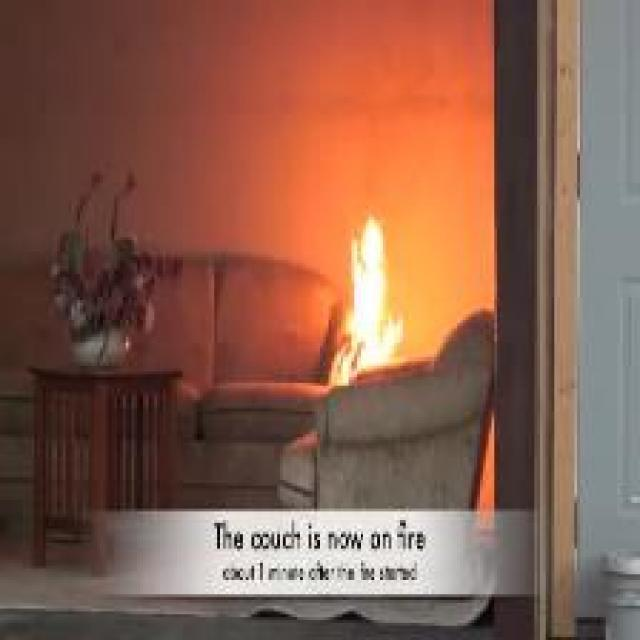Fire: (338, 220, 404, 386)
